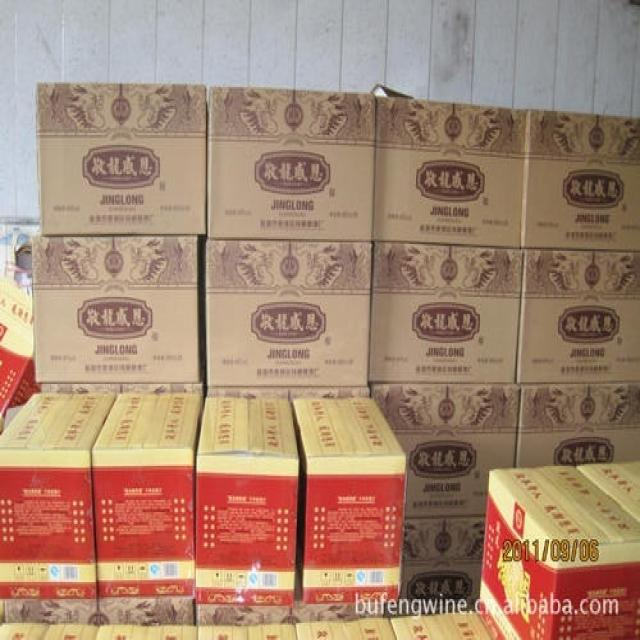box: (476, 464, 640, 640), (206, 87, 376, 241), (35, 84, 206, 236), (0, 389, 120, 601), (32, 232, 200, 382), (206, 237, 374, 386), (291, 396, 407, 604), (374, 96, 527, 249), (91, 391, 202, 597), (367, 241, 522, 384), (196, 398, 301, 606), (370, 382, 520, 517), (521, 109, 640, 253), (516, 249, 640, 384), (516, 382, 640, 468), (401, 515, 484, 616), (0, 280, 37, 435), (573, 459, 640, 524), (97, 597, 195, 625), (389, 613, 490, 640), (0, 597, 97, 625), (293, 618, 397, 640), (207, 386, 370, 398), (41, 382, 202, 394), (197, 621, 296, 640), (0, 621, 99, 640), (196, 606, 293, 625), (293, 606, 384, 623), (97, 625, 198, 640)
